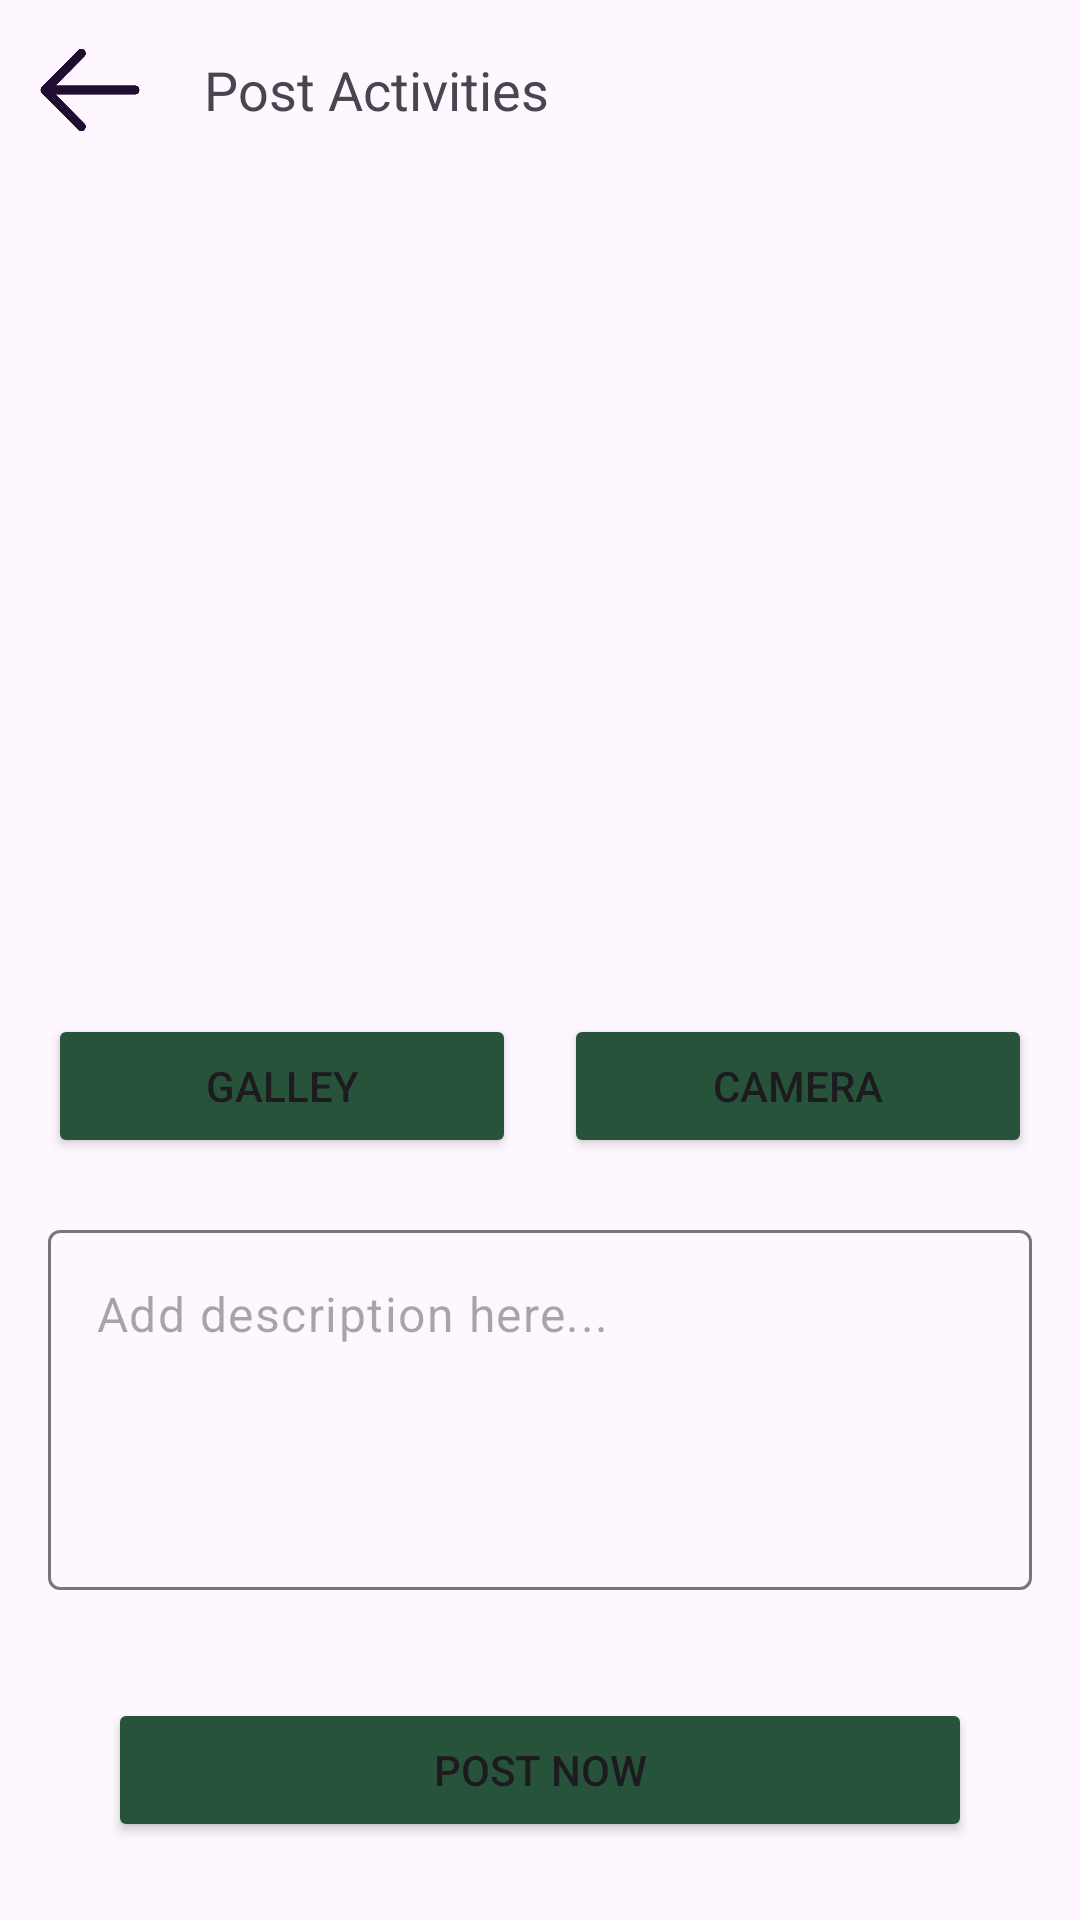

Where to tap for icons on this 1080px x 1920px app screen, as point (x, y):
Button Back: point (90, 90)
